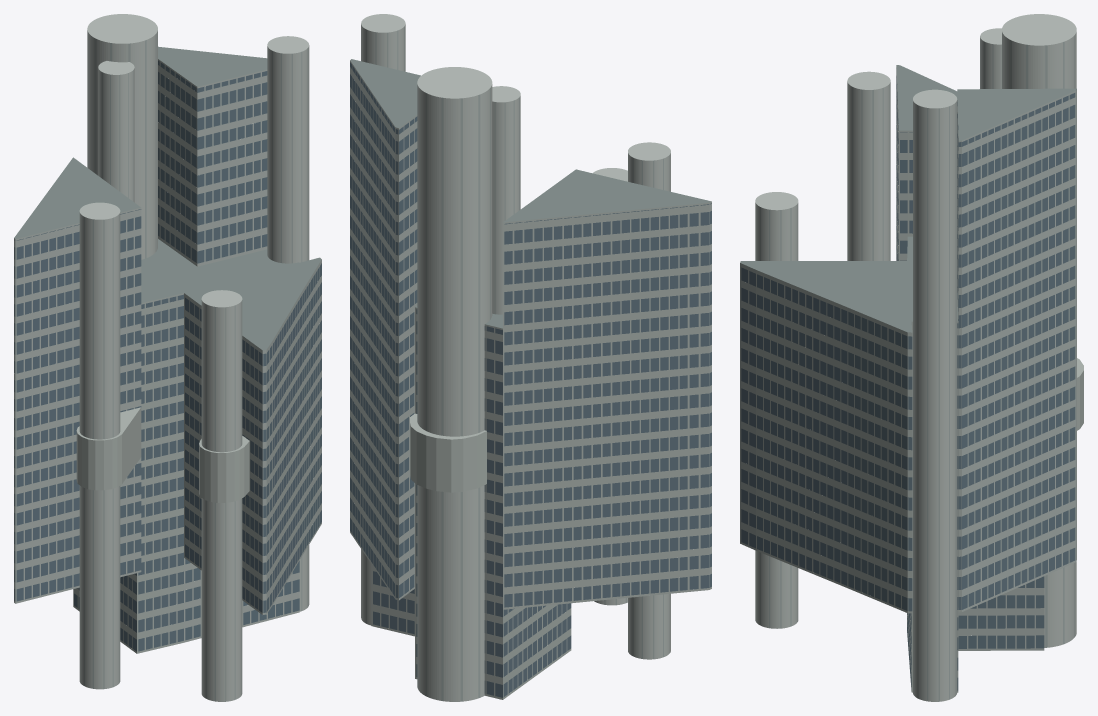
File: hypo-haus-munich-near.glb
3 views of the same model, side by side, from view 1: azimuth 30°, elevation 25°; view 2: azimuth 150°, elevation 25°; view 3: azimuth 270°, elevation 25° (orthographic). The views are drawn at different scales.
Visible parts, largest first — view 1: hypo-haus-munich-0-glass, hypo-haus-munich-0-shaft, hypo-haus-munich-0-frame, hypo-haus-munich-0-roof, hypo-haus-munich-0-rib, hypo-haus-munich-0-metal; view 2: hypo-haus-munich-0-glass, hypo-haus-munich-0-frame, hypo-haus-munich-0-shaft, hypo-haus-munich-0-rib, hypo-haus-munich-0-roof, hypo-haus-munich-0-metal; view 3: hypo-haus-munich-0-glass, hypo-haus-munich-0-frame, hypo-haus-munich-0-shaft, hypo-haus-munich-0-roof, hypo-haus-munich-0-rib.
Boxes of the visible parts, <box> form: hypo-haus-munich-0-glass: <box>14,60,321,651</box>; hypo-haus-munich-0-shaft: <box>79,14,309,701</box>; hypo-haus-munich-0-frame: <box>14,59,321,653</box>; hypo-haus-munich-0-roof: <box>14,46,321,350</box>; hypo-haus-munich-0-rib: <box>84,32,308,701</box>; hypo-haus-munich-0-metal: <box>76,407,249,502</box>; hypo-haus-munich-0-glass: <box>350,62,711,697</box>; hypo-haus-munich-0-frame: <box>350,60,711,699</box>; hypo-haus-munich-0-shaft: <box>361,14,670,701</box>; hypo-haus-munich-0-rib: <box>361,25,669,701</box>; hypo-haus-munich-0-roof: <box>350,59,711,328</box>; hypo-haus-munich-0-metal: <box>410,413,486,492</box>; hypo-haus-munich-0-glass: <box>741,76,1075,690</box>; hypo-haus-munich-0-frame: <box>740,67,1076,692</box>; hypo-haus-munich-0-shaft: <box>755,14,1076,701</box>; hypo-haus-munich-0-roof: <box>740,65,1076,332</box>; hypo-haus-munich-0-rib: <box>760,33,1074,701</box>.
Bounding box in the file's own units: 65.38 × 114 × 58.79.
